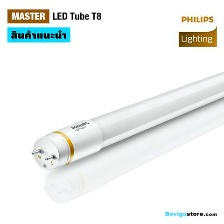light_bulb: (23, 58, 224, 172)
